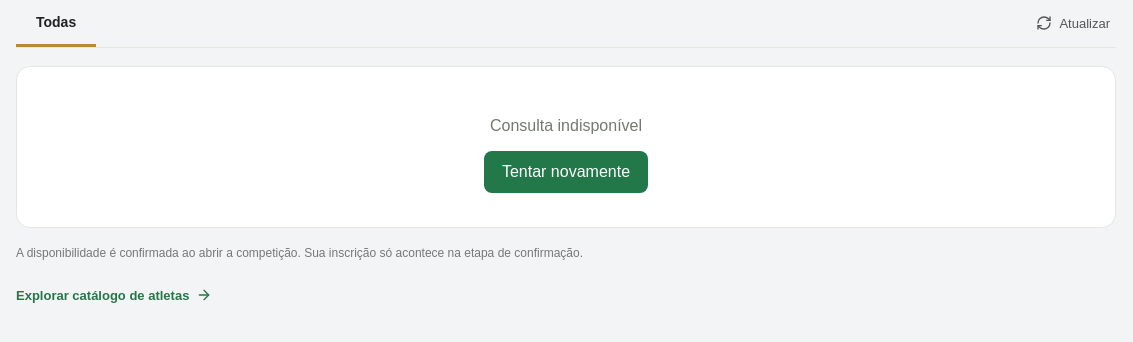
Test case: trata erro, nova tentativa e ausência de competições
Expected: the message shows "Consulta indisponível", [490,117,642,134]
Step 1. Click the button "Tentar novamente" → [566, 172], box [484,151,648,193]
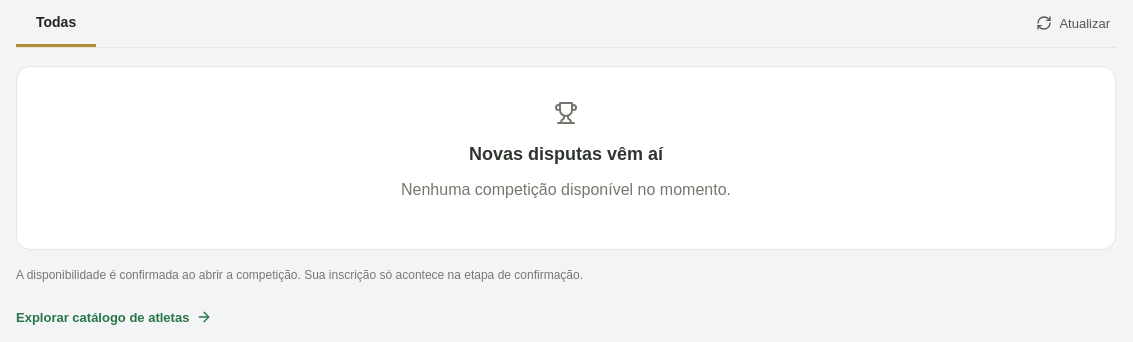
Result: the text "Nenhuma competição disponível no momento." is shown at [401,181,731,198]
